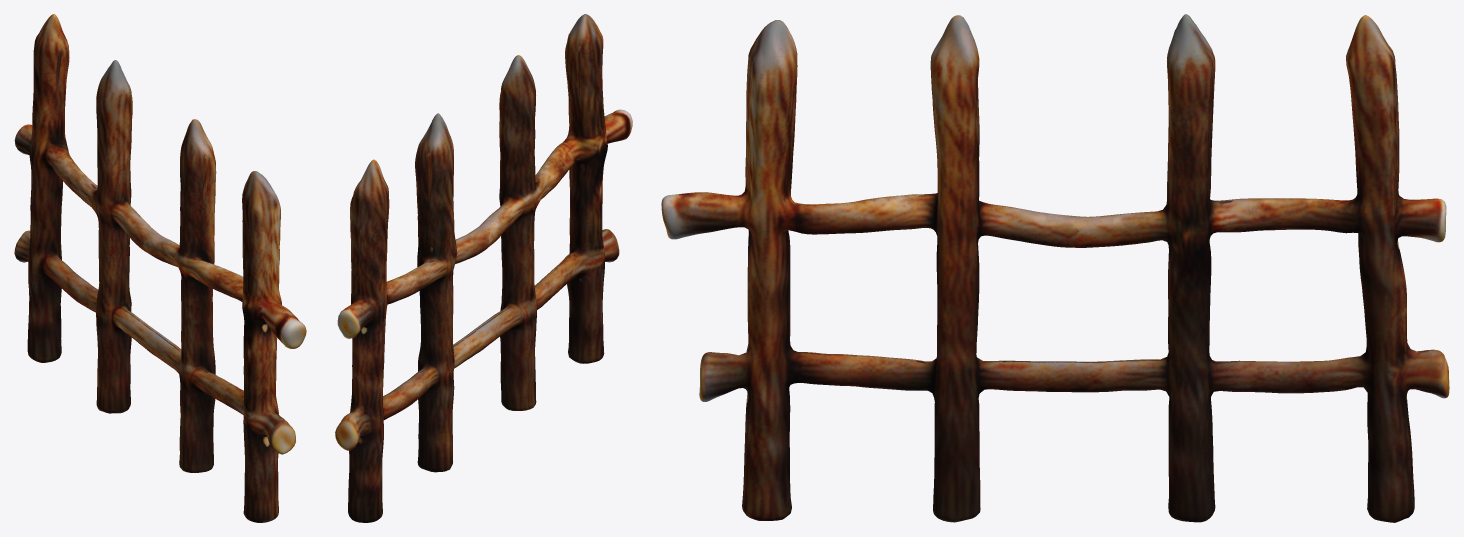
Rendered from 8cb55733d900_a_barricade_made_by.fbx.
The picture shows the model from 3 angles, left to right: view 1: azimuth 30°, elevation 25°; view 2: azimuth 150°, elevation 25°; view 3: azimuth 270°, elevation 25°; orthographic projection. The views are drawn at different scales.
Visible parts, largest first — view 1: mesh; view 2: mesh; view 3: mesh.
Boxes of the visible parts, x1=… form: mesh: x1=14, y1=14, x2=306, y2=522; mesh: x1=335, y1=14, x2=632, y2=522; mesh: x1=661, y1=14, x2=1449, y2=522.
Bounding box in the file's own units: 7.42 × 70.04 × 99.93.
